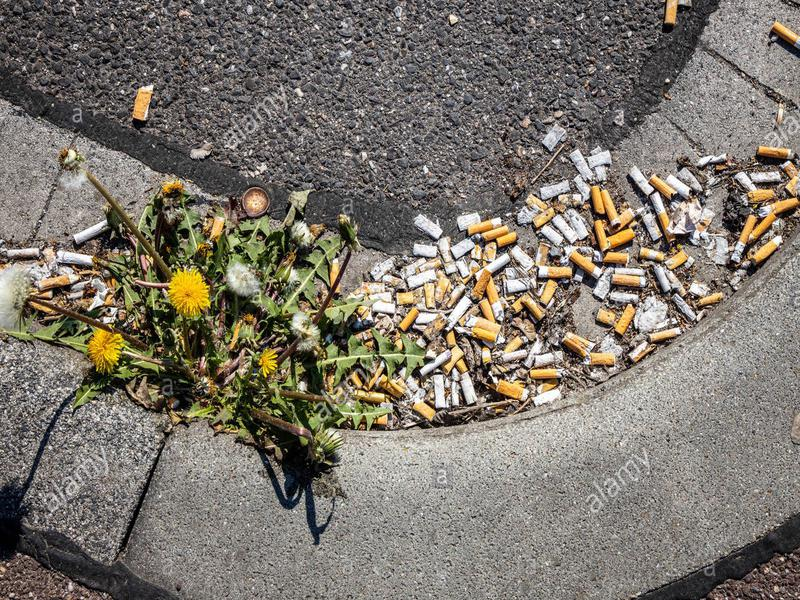burned_cigarette: (723, 211, 760, 266), (748, 138, 796, 164), (129, 82, 157, 124), (600, 187, 626, 232), (610, 301, 641, 335), (532, 260, 577, 283), (31, 271, 78, 293), (467, 268, 494, 304), (525, 365, 568, 385), (494, 229, 520, 247)
flowers: (91, 178, 322, 428)
